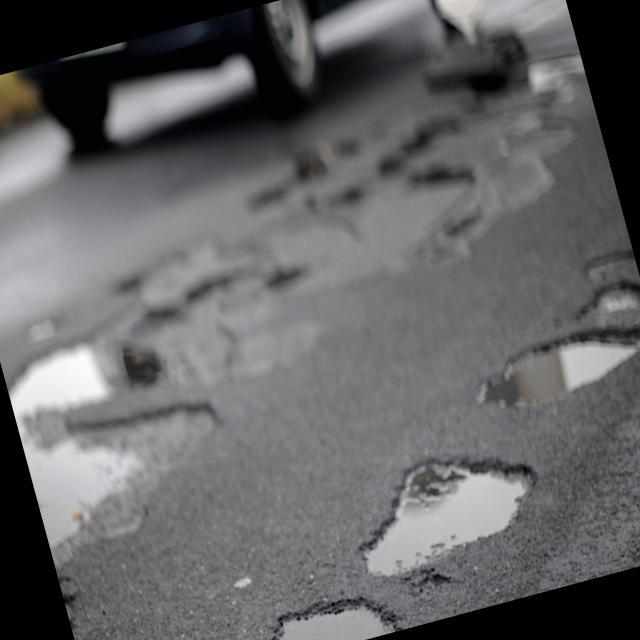Pothole: (325, 403, 570, 595), (464, 288, 640, 447), (216, 548, 407, 640)
